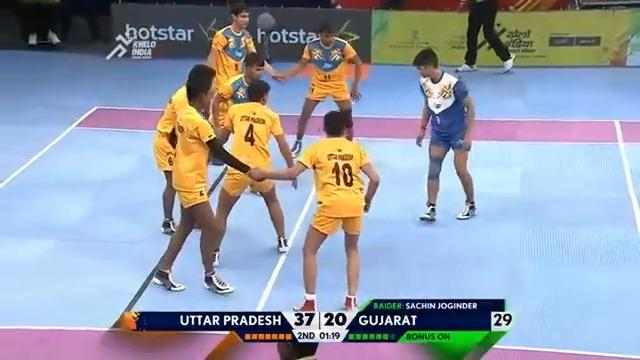Player: (247, 110, 380, 313), (151, 63, 261, 294), (208, 78, 296, 266), (271, 22, 363, 158), (152, 63, 217, 235), (206, 2, 278, 137)
Raider: (412, 47, 477, 222)
referee: (454, 0, 516, 73), (15, 0, 64, 47), (57, 0, 104, 42)
